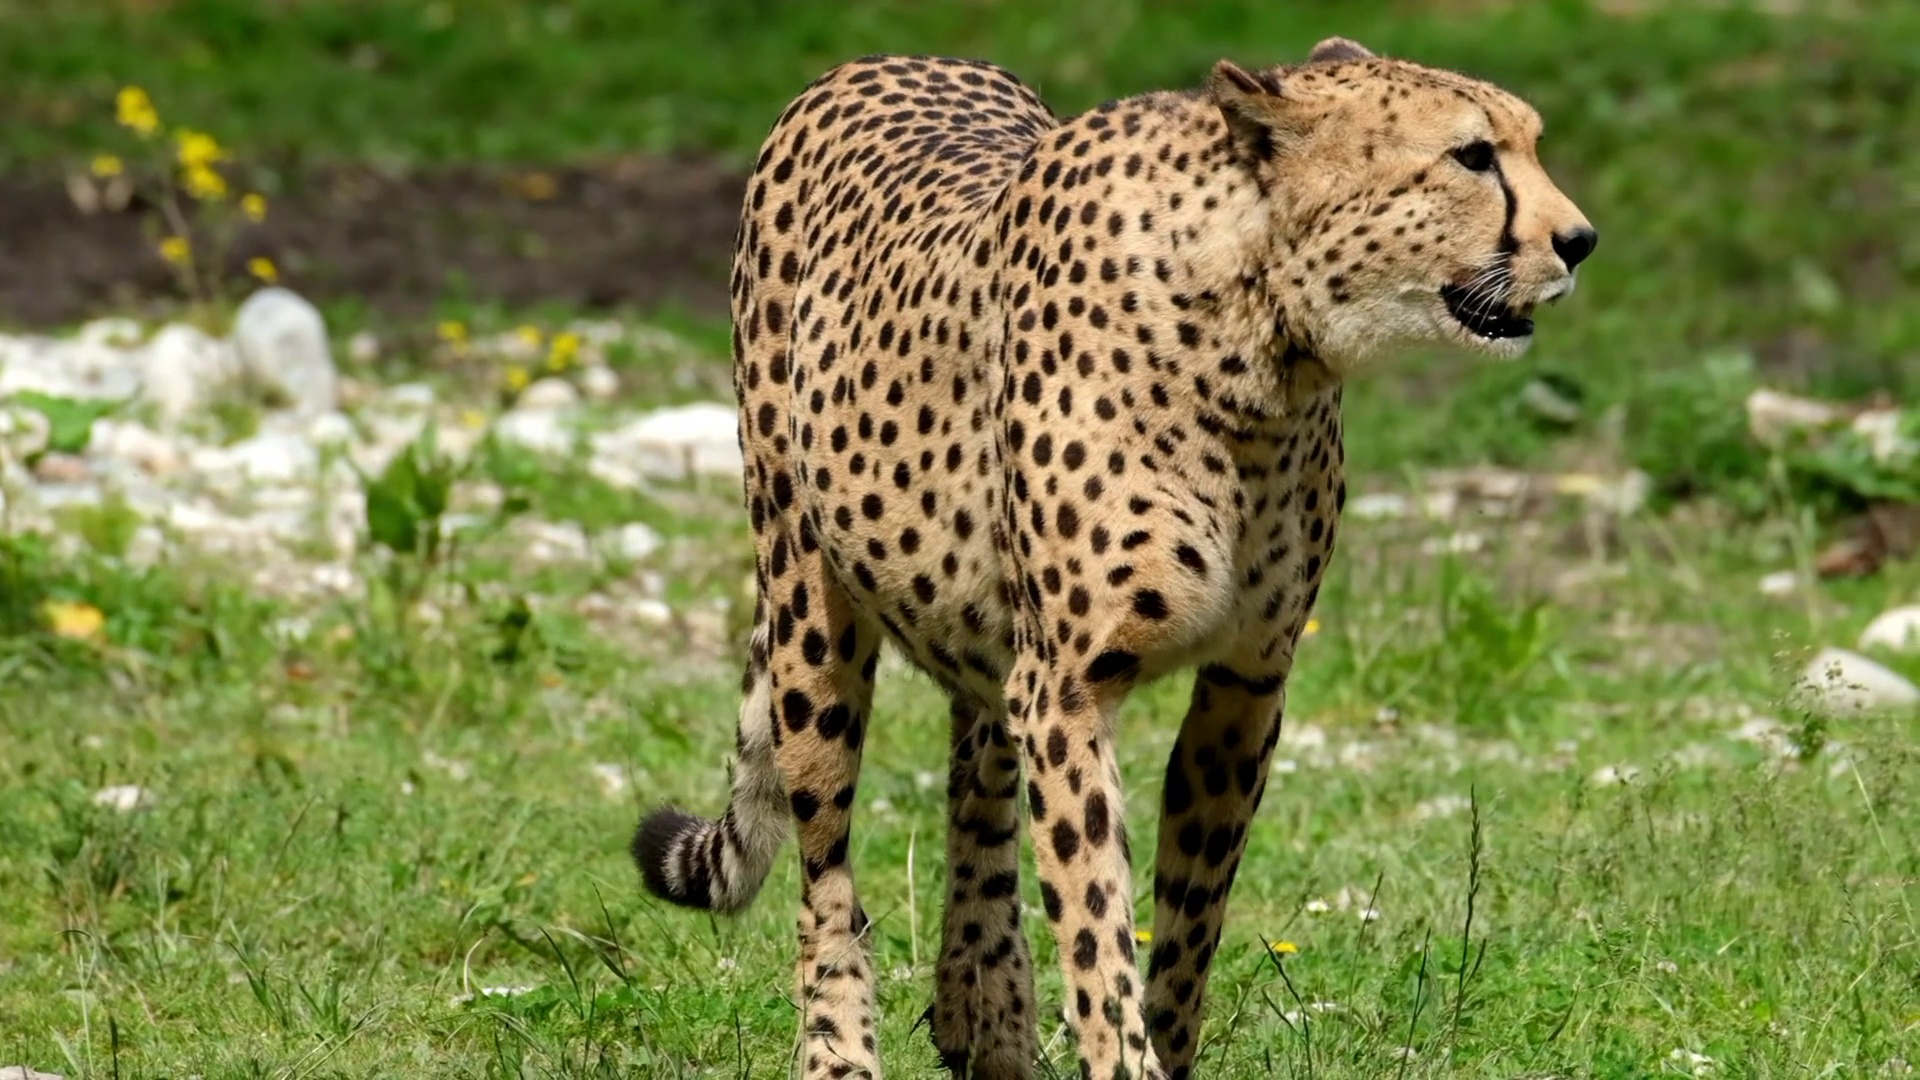Cheetah: (622, 33, 1600, 1080)
